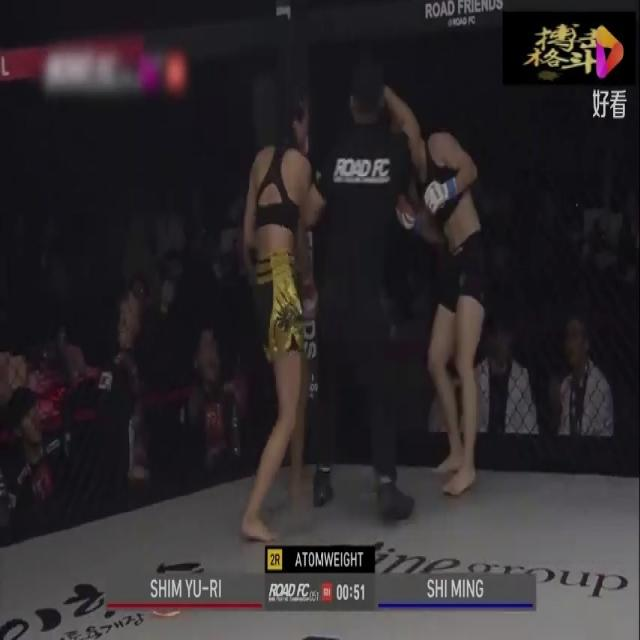fight: (246, 60, 488, 532)
non-fight: (296, 57, 419, 518)
